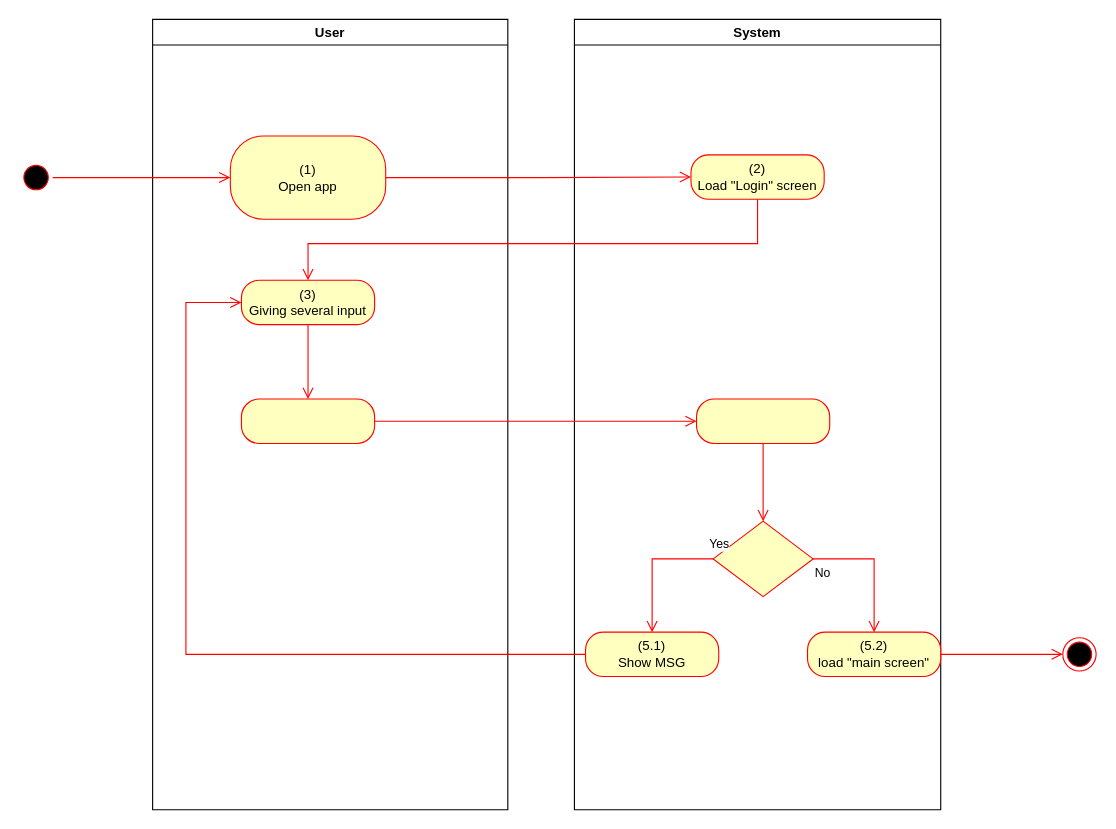
The diagram is 1116 pixels wide and 829 high, and some of its shapes have lost their labels. Here are the shapes that lost their labels. From the top down, the box of each, then its label:
(240, 398, 375, 443): (4) Click "Xác nhận"
(695, 398, 830, 443): (5) Validate
(712, 520, 813, 597): Receive MSG
